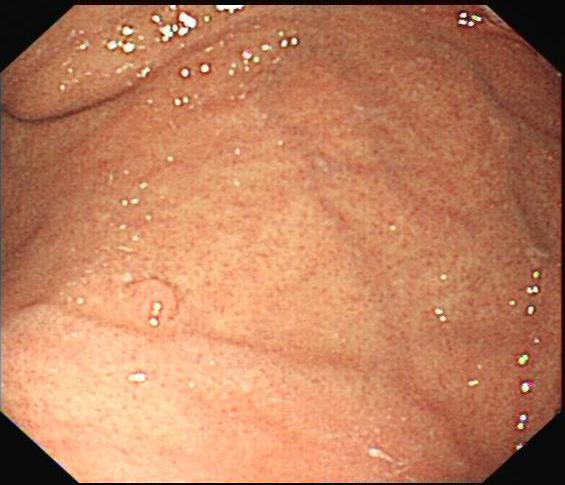Polyp: (122, 273, 182, 335)
